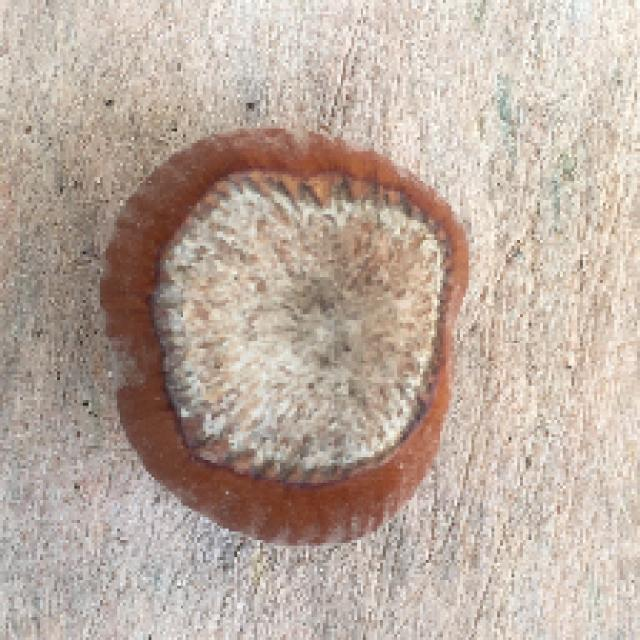qualityHazelnut: (89, 126, 491, 552)
